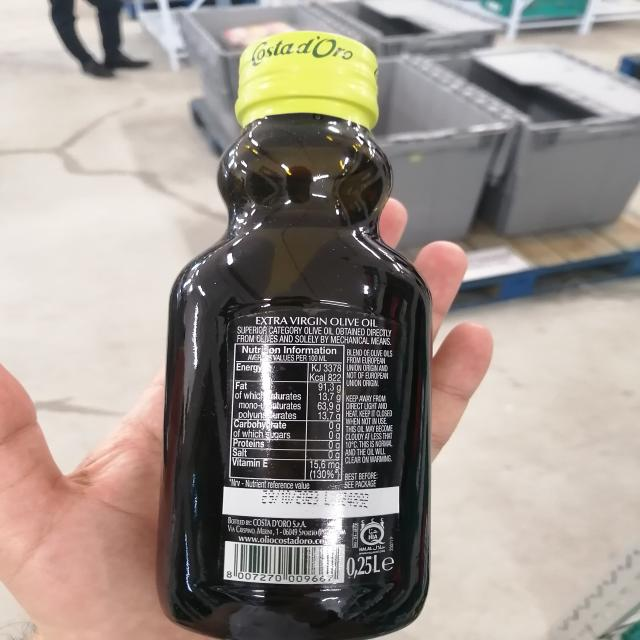object_name: (179, 43, 433, 627)
